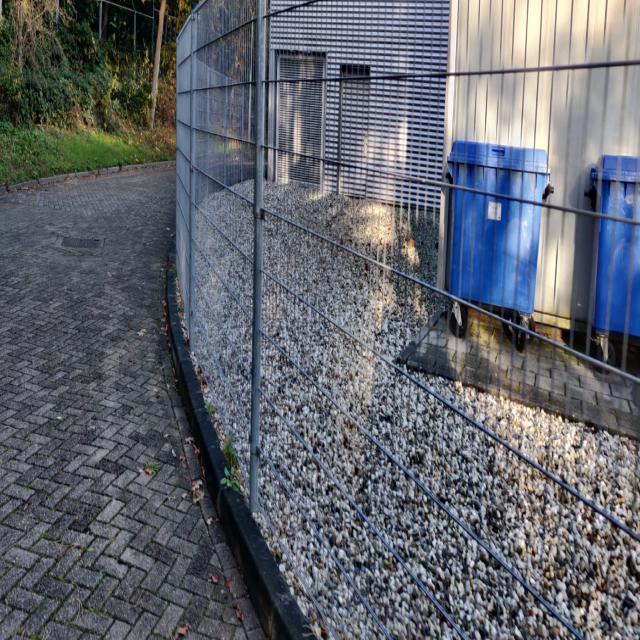fence line: (168, 19, 640, 639)
